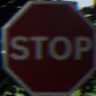Stop: (4, 9, 91, 80)
